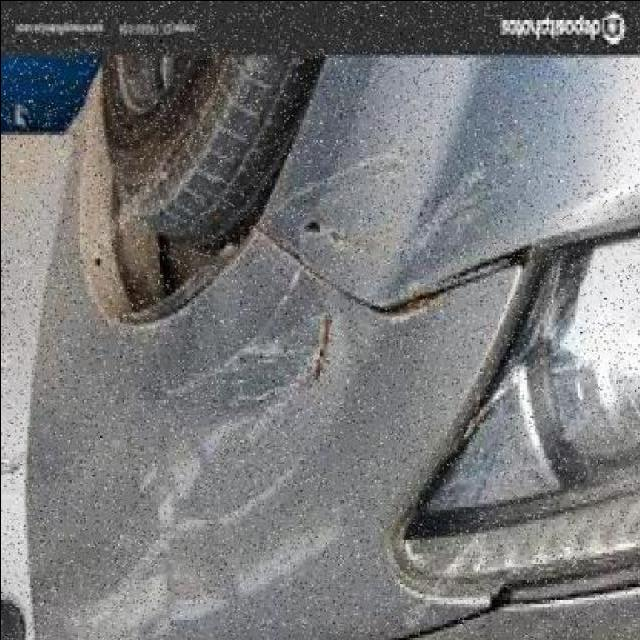fender-dent: (41, 245, 434, 637)
front-bumper-dent: (259, 40, 640, 268)
